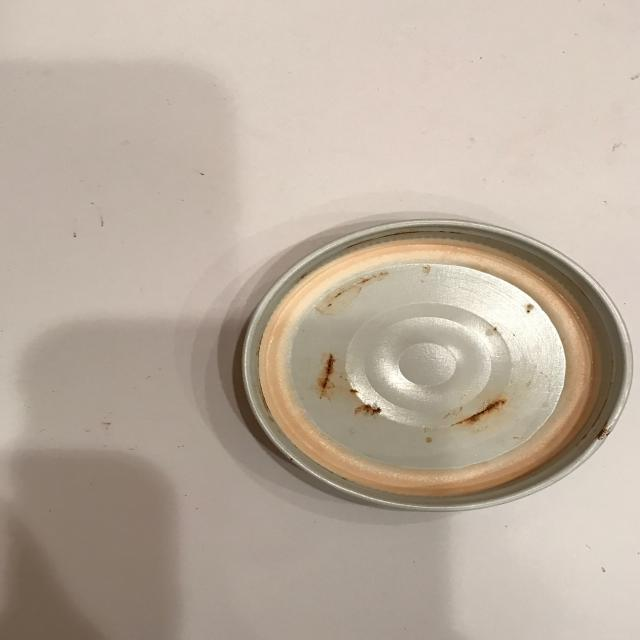metal: (236, 218, 640, 513)
